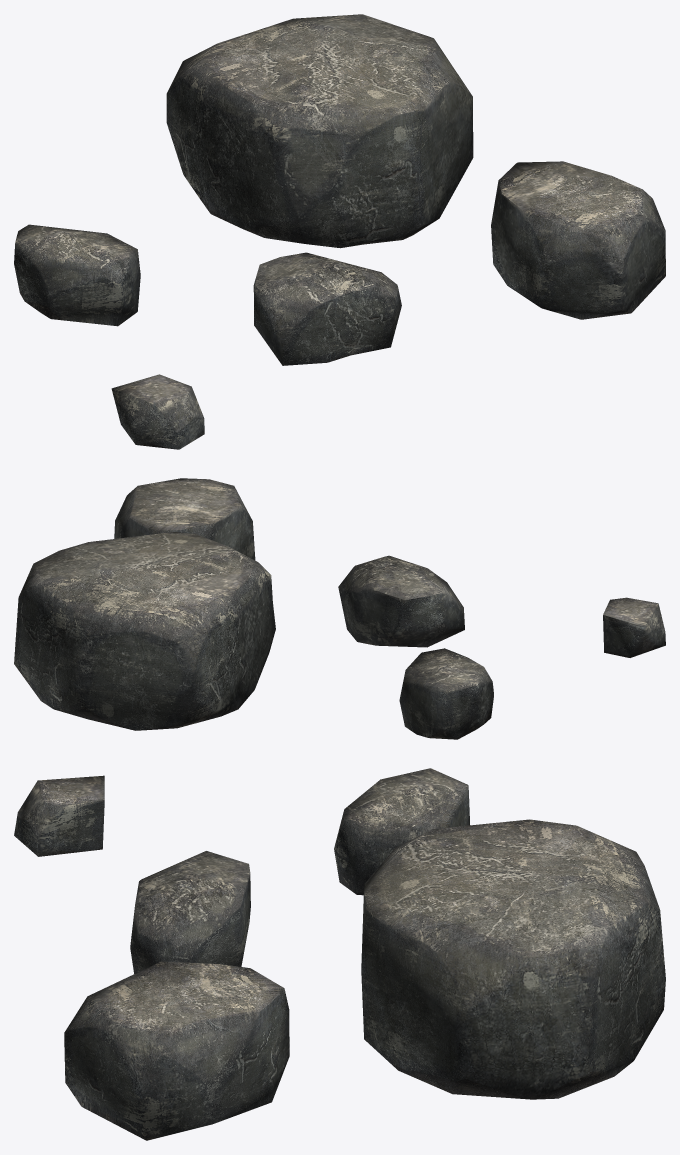
The model's file is small_rocks.glb.
The picture shows the model from 3 angles, top to bottom: view 1: azimuth 30°, elevation 25°; view 2: azimuth 150°, elevation 25°; view 3: azimuth 270°, elevation 25°; orthographic projection. The views are drawn at different scales.
Visible parts, largest first — view 1: smallrock5, smallrock4, smallrock3, smallrock2, smallrock1; view 2: smallrock5, smallrock3, smallrock4, smallrock2, smallrock1; view 3: smallrock5, smallrock4, smallrock3, smallrock2, smallrock1.
Part boxes in pixels (<box>): smallrock5: <box>166,14,473,248</box>; smallrock4: <box>491,161,665,319</box>; smallrock3: <box>253,252,401,365</box>; smallrock2: <box>14,224,140,326</box>; smallrock1: <box>111,374,204,449</box>; smallrock5: <box>14,532,275,730</box>; smallrock3: <box>338,555,464,647</box>; smallrock4: <box>114,478,255,560</box>; smallrock2: <box>399,648,493,739</box>; smallrock1: <box>603,597,665,657</box>; smallrock5: <box>361,819,665,1099</box>; smallrock4: <box>64,961,289,1140</box>; smallrock3: <box>130,851,250,973</box>; smallrock2: <box>334,768,469,895</box>; smallrock1: <box>14,775,104,856</box>.
Bounding box in the file's own units: 2.24 × 0.575 × 1.93.
1 material, 1 textured.
